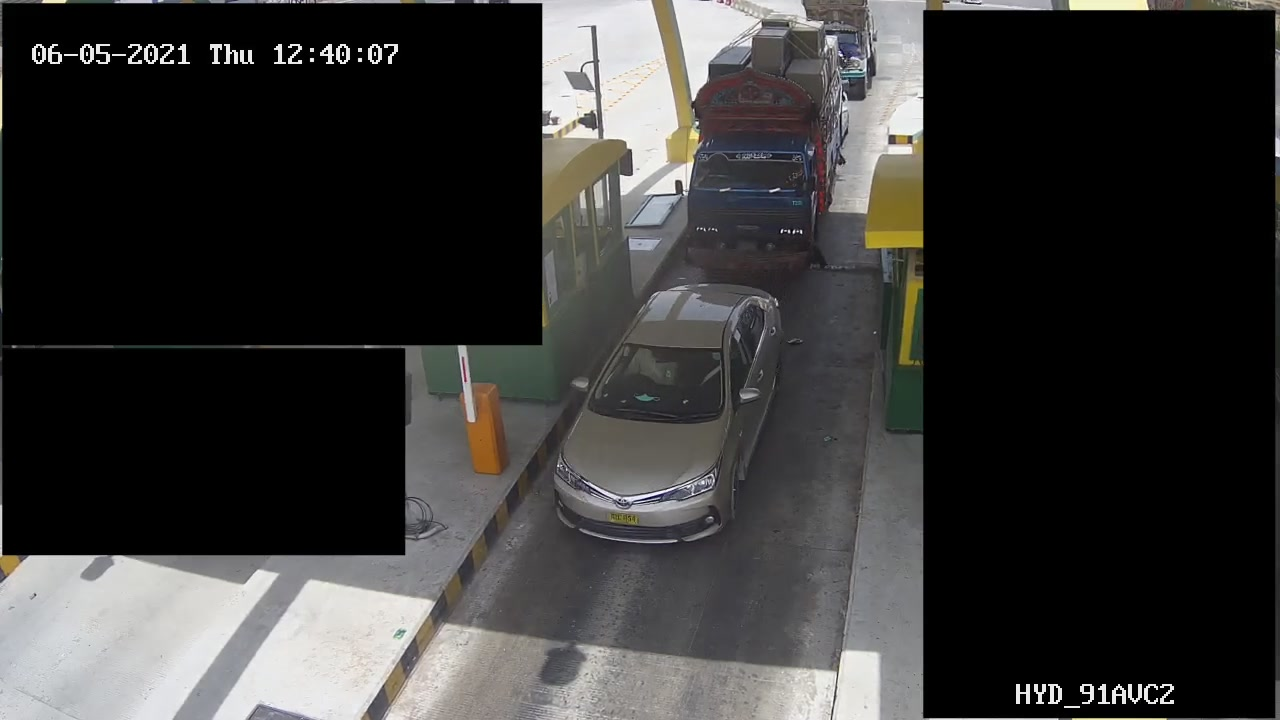F1: (552, 273, 785, 552)
F5: (685, 12, 855, 278)
